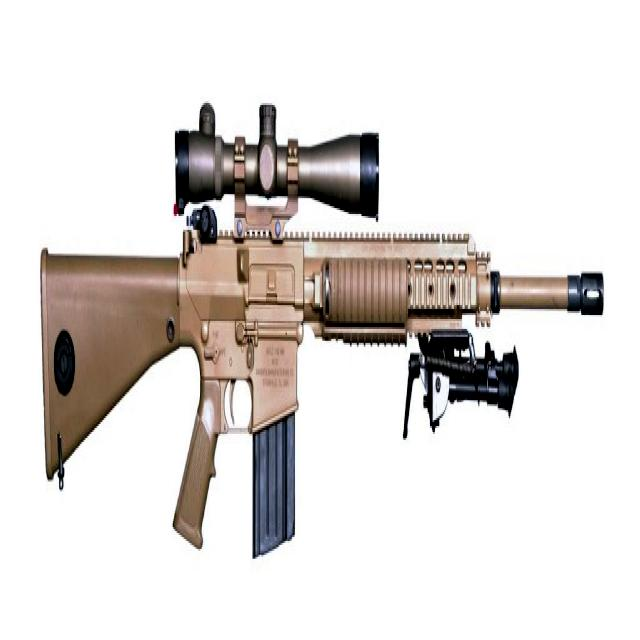rifle: (21, 85, 614, 565)
